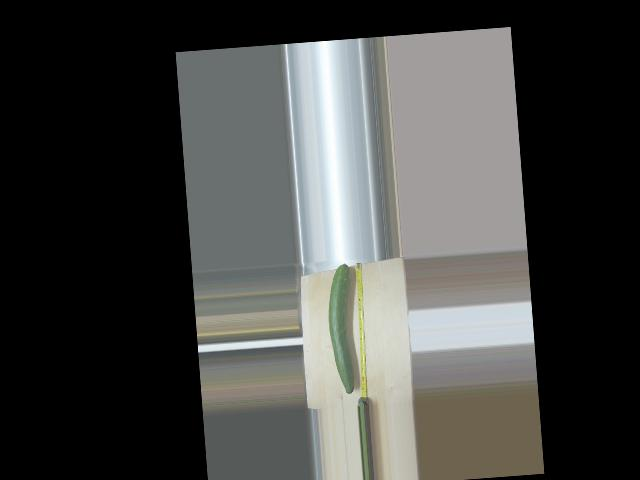cucumber: (324, 263, 359, 395)
